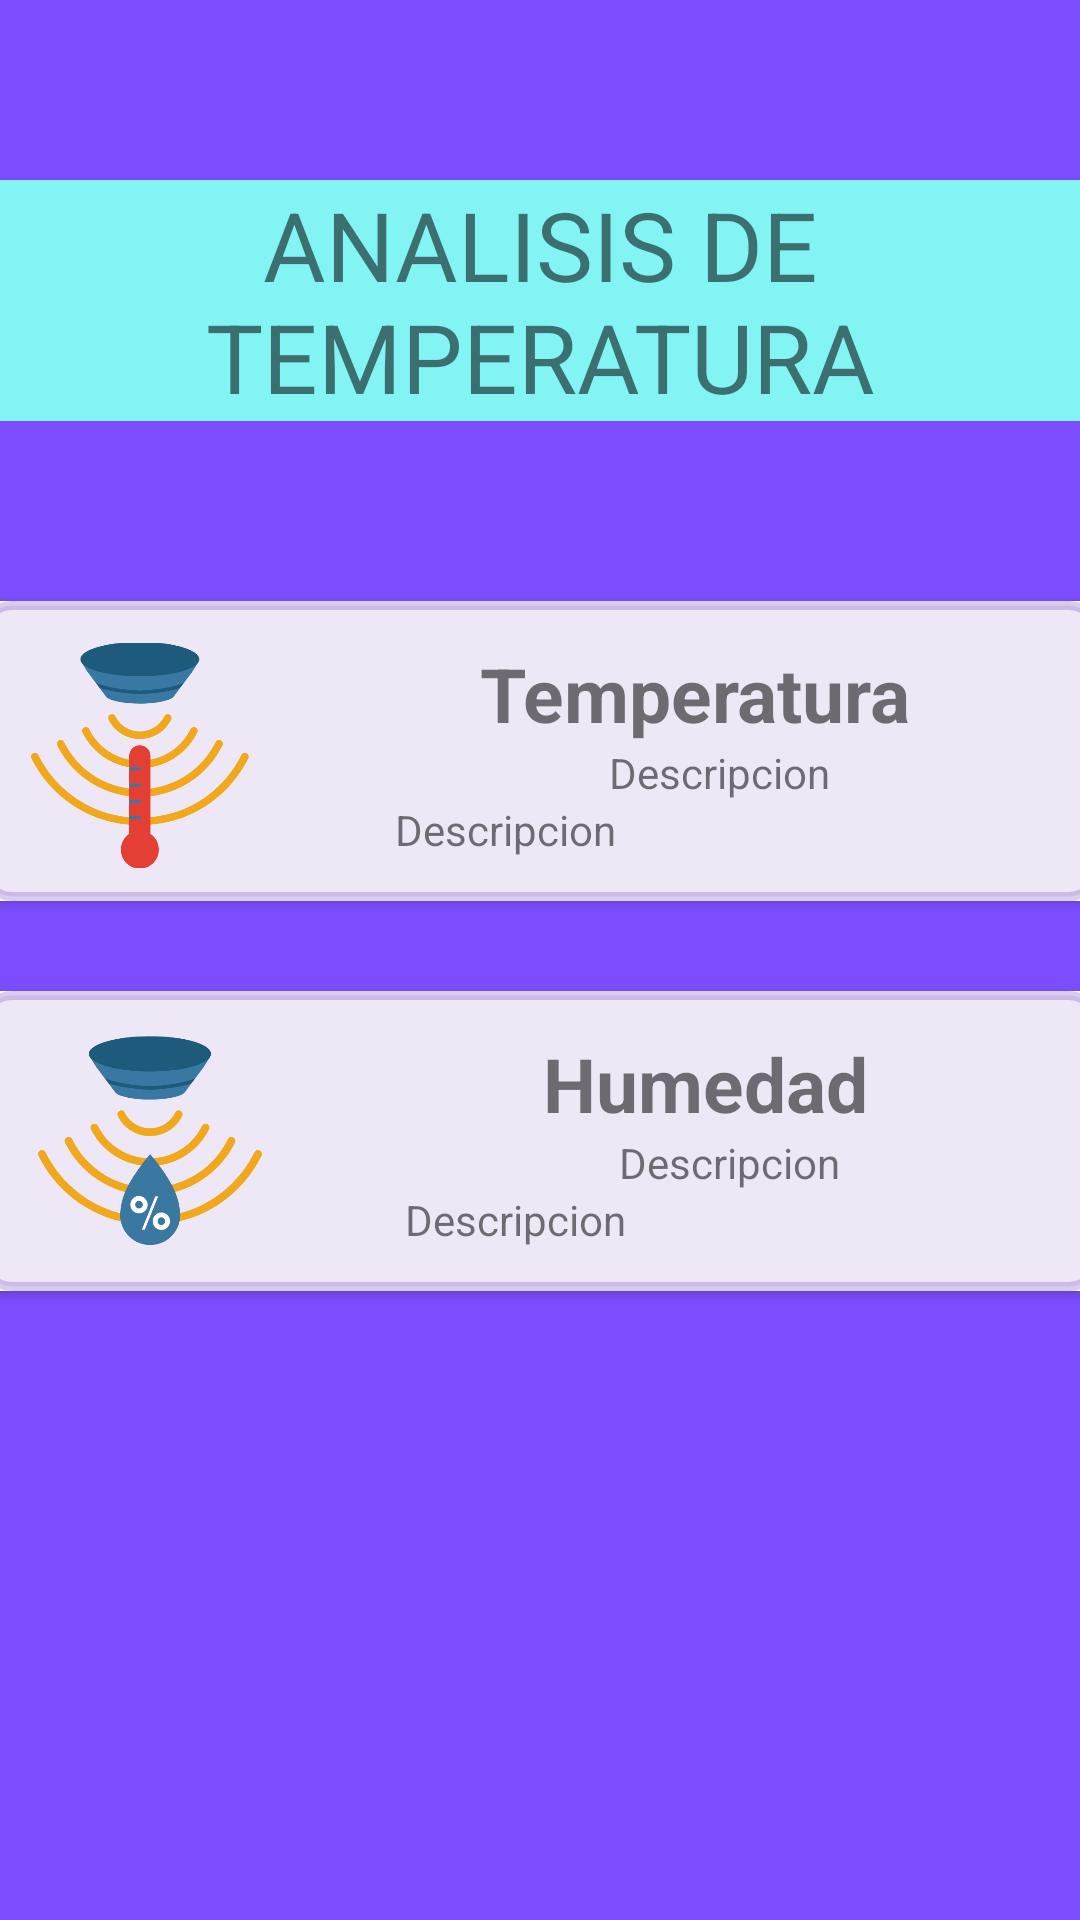

Icon click points for this 1080 x 1920 phone screenshot, format (x,y):
hum: (150,1140)
